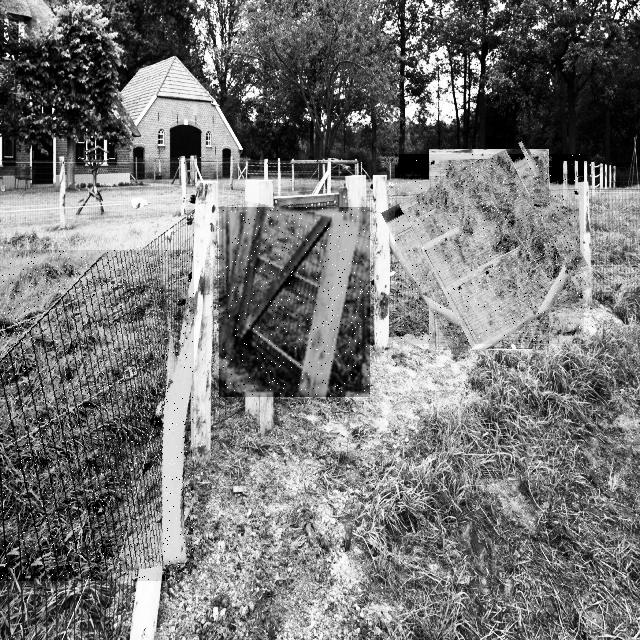fences: (0, 250, 194, 581), (395, 154, 584, 344), (219, 207, 370, 397)
